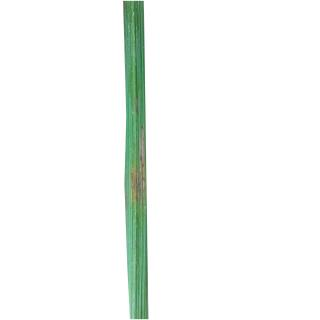Blast: (134, 118, 146, 206)
